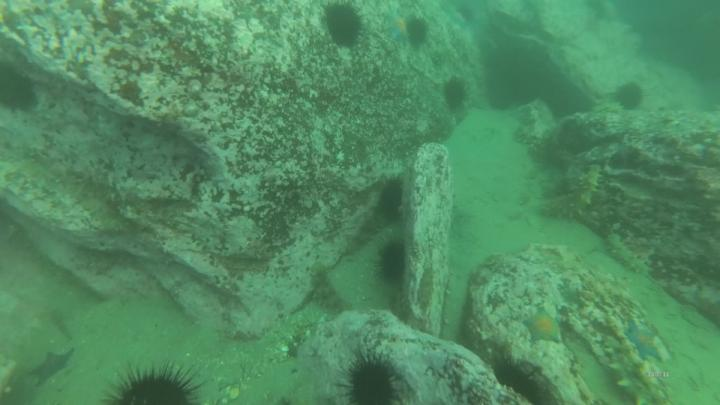echinus: (334, 349, 407, 405), (490, 359, 545, 402), (323, 3, 369, 50), (1, 65, 43, 113), (378, 240, 410, 288), (376, 179, 405, 225), (443, 70, 469, 114), (614, 80, 647, 112), (407, 15, 432, 50)
holothurian: (534, 162, 603, 221), (308, 260, 350, 315), (606, 231, 650, 279)
starfish: (26, 346, 79, 389), (625, 319, 667, 367), (523, 307, 567, 349), (385, 12, 411, 45)
